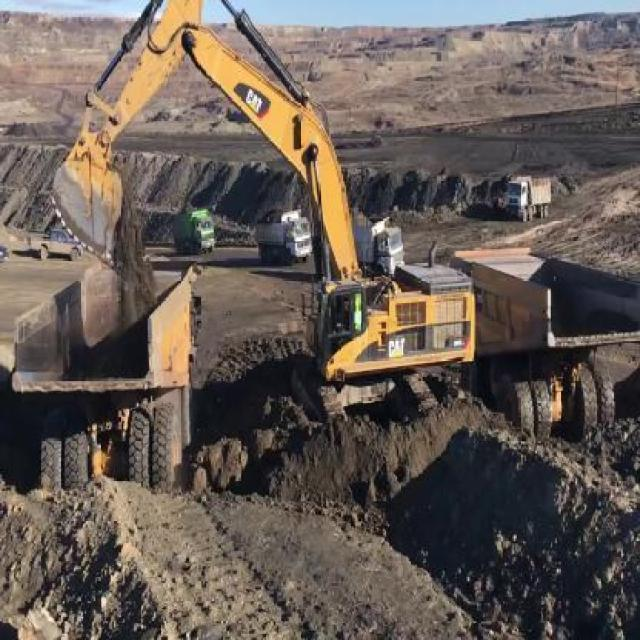dump_truck: (8, 250, 200, 496), (453, 241, 639, 436), (253, 208, 312, 266), (348, 208, 403, 269), (506, 168, 552, 224), (170, 209, 216, 253)
excavator: (52, 2, 474, 466)
